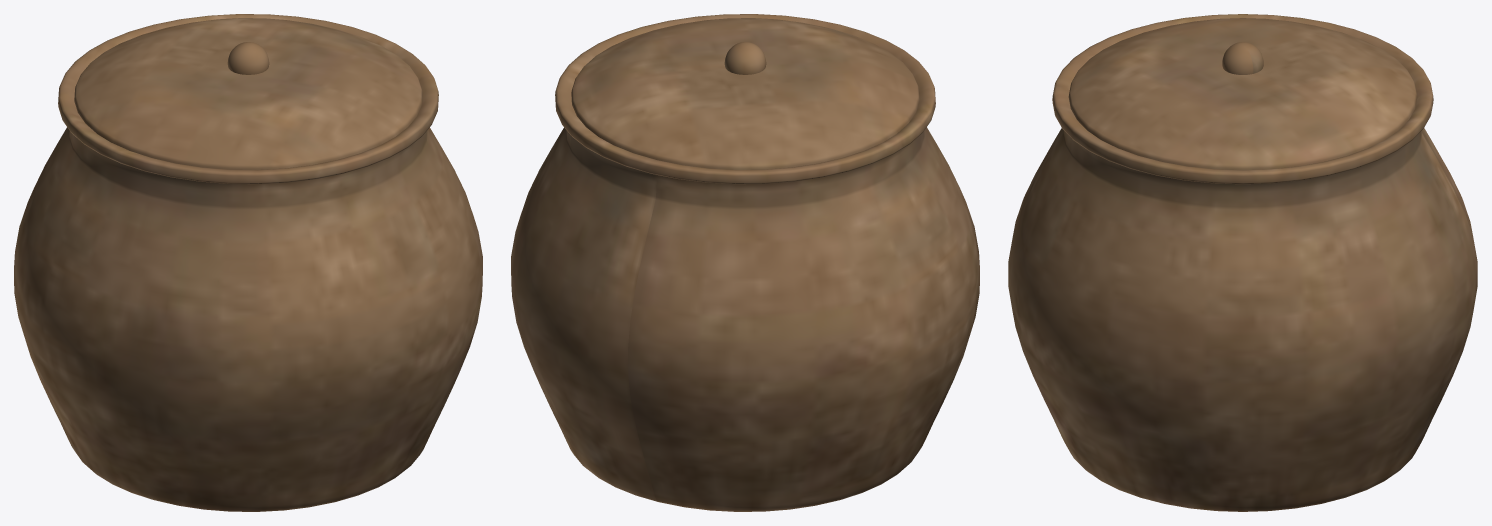
Rendered from SM_Pot_B_Complete.glb.
The picture shows the model from 3 angles, left to right: view 1: azimuth 30°, elevation 25°; view 2: azimuth 150°, elevation 25°; view 3: azimuth 270°, elevation 25°; orthographic projection.
Parts seen in each view (by area): view 1: SM_Pot_B_Complete; view 2: SM_Pot_B_Complete; view 3: SM_Pot_B_Complete.
Part boxes in pixels (box(x1,y1,x2,y2)): SM_Pot_B_Complete: box(14, 14, 482, 511); SM_Pot_B_Complete: box(511, 14, 979, 511); SM_Pot_B_Complete: box(1008, 14, 1477, 511).
Size of the model in its own units: 0.2948 by 0.2752 by 0.2948.
Materials: 1 (1 with a texture image).
